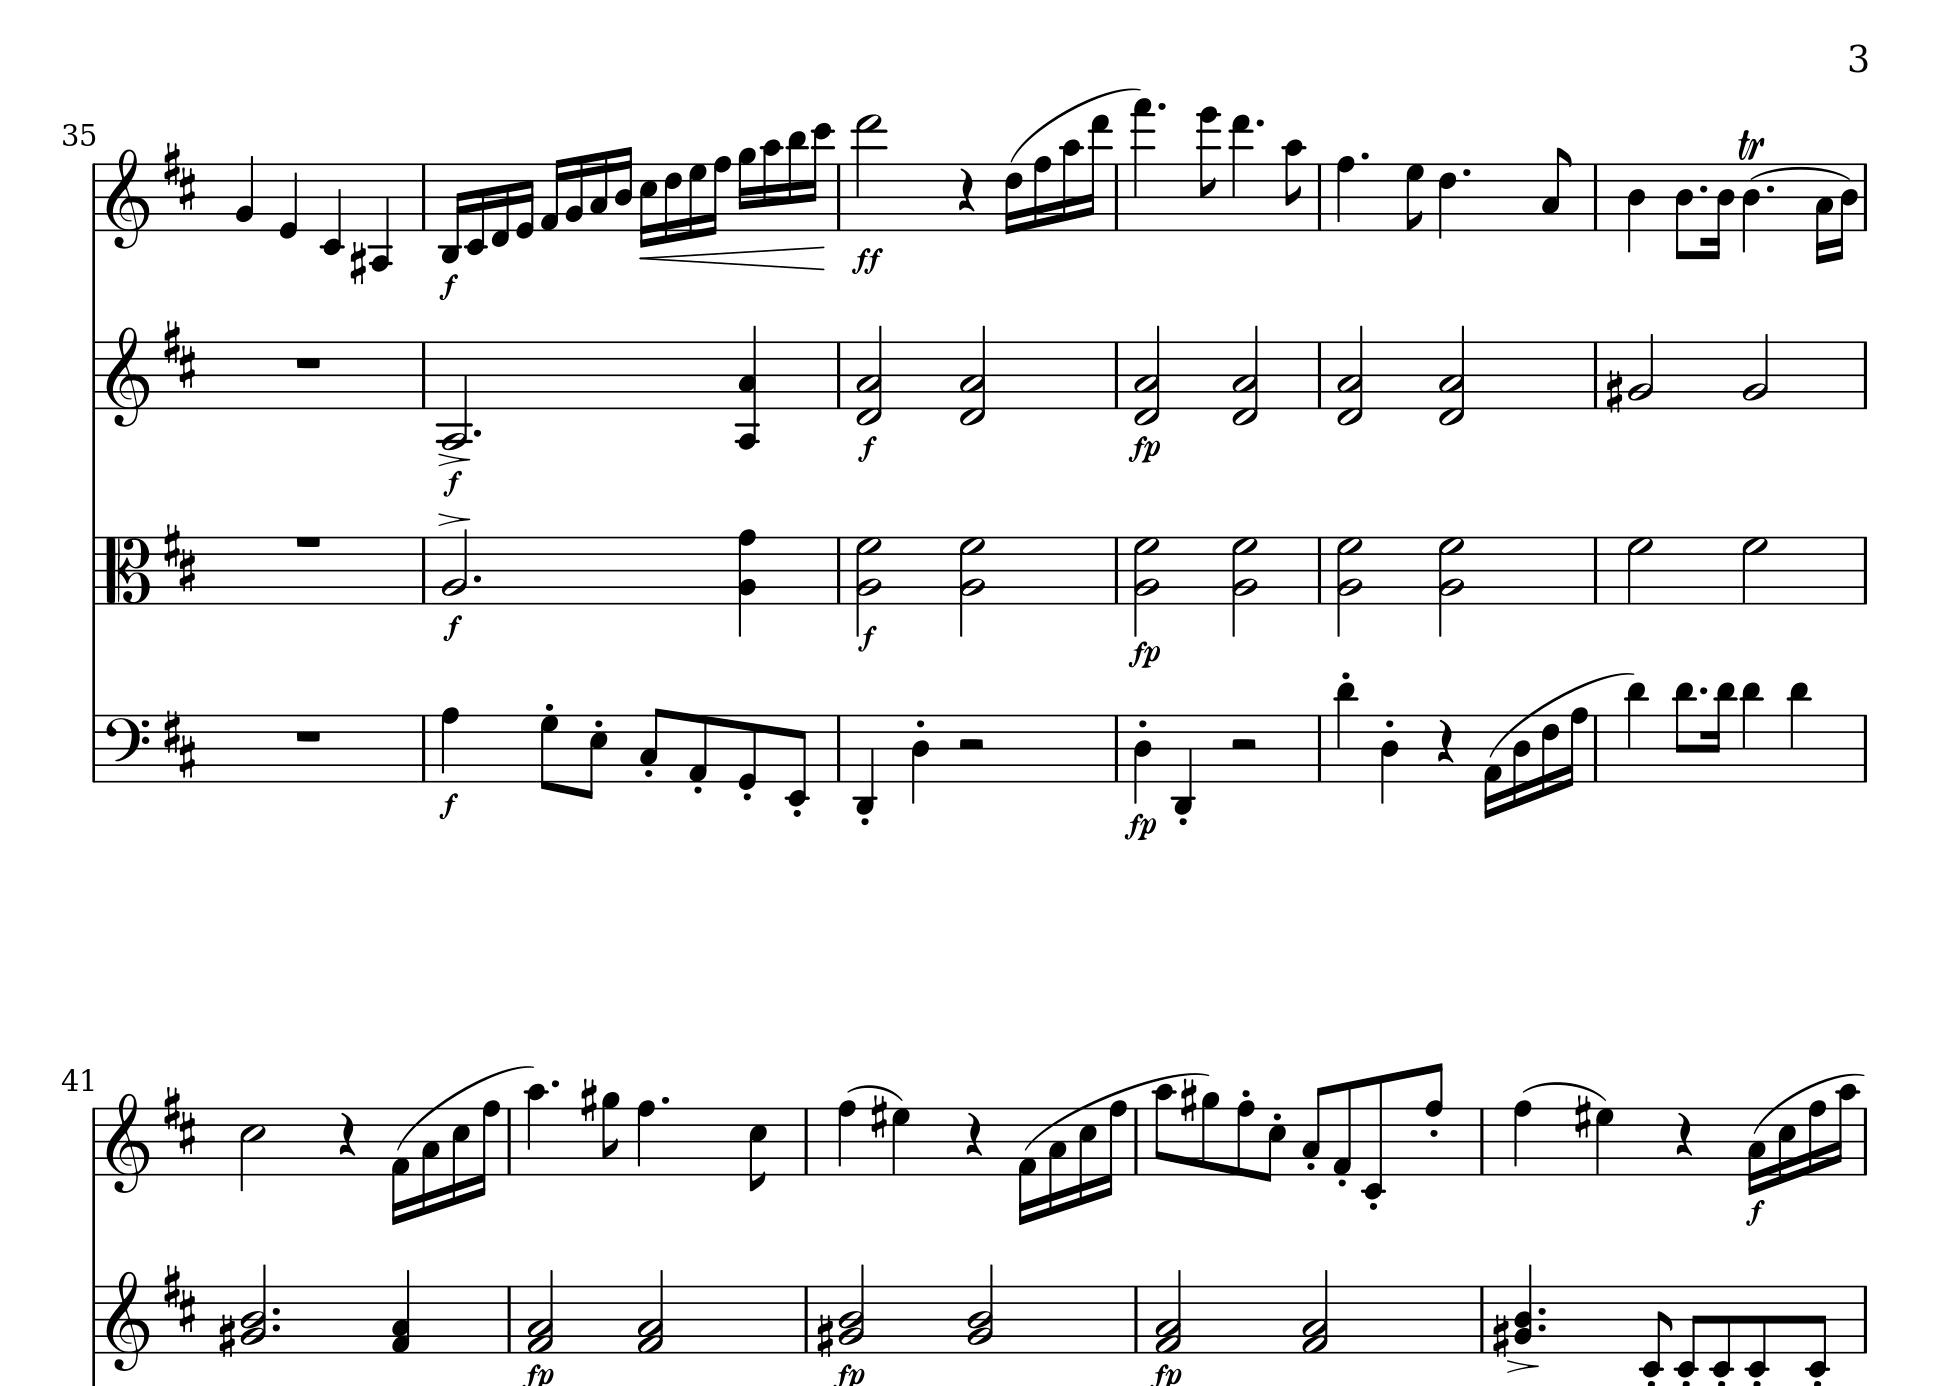1: (79, 1066, 97, 1093)
16_-1: (489, 160, 511, 247)
16_-2: (463, 160, 486, 255)
16_-3: (438, 160, 465, 265)
16_0: (513, 160, 535, 240)
16_1: (1017, 1105, 1038, 1225), (390, 1108, 409, 1225), (1483, 712, 1503, 820), (538, 156, 565, 232)
16_10: (1831, 1081, 1863, 1176), (1059, 136, 1083, 232), (760, 138, 784, 232)
16_11: (1704, 679, 1737, 784), (784, 129, 807, 232)
16_12: (805, 121, 834, 232)
16_13: (1083, 112, 1110, 232)
16_2: (564, 153, 585, 232)
16_3: (418, 1105, 441, 1216), (1047, 1105, 1068, 1216), (588, 148, 610, 232), (1746, 1105, 1767, 1195), (1815, 160, 1833, 264)
16_4: (1702, 162, 1735, 261), (1834, 160, 1860, 261), (1510, 712, 1531, 808), (613, 145, 634, 232)
16_5: (450, 1105, 469, 1206), (1078, 1105, 1098, 1203), (637, 160, 658, 247), (1776, 1105, 1797, 1185)
16_6: (661, 160, 684, 243), (1540, 712, 1560, 796), (1003, 162, 1024, 235)
16_7: (687, 160, 706, 241)
16_8: (472, 1098, 501, 1198), (1101, 1098, 1128, 1198), (1563, 705, 1590, 789), (706, 154, 732, 235), (1806, 1096, 1827, 1177), (1032, 154, 1053, 232)
16_9: (736, 145, 757, 232)
2_-1_3: (958, 325, 988, 426), (1437, 327, 1467, 427), (1233, 325, 1261, 427), (856, 325, 885, 426), (1134, 327, 1162, 427), (1338, 327, 1366, 427)
2_-4: (436, 339, 471, 450)
2_13: (852, 111, 886, 234)
2_1_3: (526, 1270, 556, 1357), (1155, 1269, 1185, 1354), (637, 1270, 666, 1359), (1302, 1270, 1329, 1354)
2_2: (1741, 331, 1771, 409), (439, 526, 469, 604), (1627, 331, 1656, 409)
2_2_4: (838, 1264, 868, 1356), (240, 1263, 268, 1357), (967, 1263, 994, 1356)
2_2_7: (1230, 534, 1260, 636), (955, 534, 985, 636), (1437, 535, 1465, 637), (1335, 534, 1363, 636), (1132, 535, 1161, 637), (855, 534, 883, 636)
2_5: (238, 1105, 265, 1191)
2_7: (1740, 535, 1768, 606), (1626, 535, 1653, 606)
3: (1848, 40, 1869, 73), (60, 120, 78, 147)
4: (60, 1065, 79, 1093)
4_-2: (318, 160, 345, 256)
4_-3: (1171, 712, 1197, 816), (853, 712, 876, 817)
4_-4: (366, 159, 394, 271)
4_-4_3: (733, 324, 762, 450)
4_0: (277, 160, 300, 240)
4_10: (523, 1081, 547, 1177)
4_11: (1623, 679, 1650, 784), (1333, 679, 1359, 784), (1786, 679, 1812, 784), (1740, 679, 1764, 784)
4_13: (1228, 114, 1254, 234)
4_15: (1131, 97, 1156, 232)
4_1_3: (391, 1270, 412, 1356)
4_2: (232, 153, 256, 232)
4_2_4: (1513, 1263, 1534, 1354)
4_2_8: (736, 528, 757, 637)
4_4: (909, 712, 931, 805), (1132, 712, 1155, 805), (1740, 160, 1761, 256), (1626, 160, 1647, 255), (1380, 714, 1401, 805)
4_6: (1437, 160, 1458, 240)
4_7: (889, 1105, 910, 1177), (1594, 1105, 1615, 1177)
4_8: (438, 703, 462, 784), (1335, 153, 1356, 232), (634, 1098, 655, 1177), (835, 1098, 856, 1177), (1512, 1098, 1533, 1177)
5: (78, 118, 97, 148)
8_-2: (1638, 1282, 1674, 1378), (1360, 1074, 1386, 1201), (1674, 1282, 1704, 1377), (783, 712, 811, 807), (1803, 1282, 1830, 1378), (1744, 1284, 1770, 1378), (1708, 1284, 1734, 1377)
8_0: (733, 712, 759, 793)
8_1: (1332, 1080, 1353, 1179), (685, 712, 709, 786)
8_10: (1281, 136, 1308, 232), (1152, 1081, 1176, 1177)
8_11: (1672, 679, 1698, 784)
8_14: (1197, 106, 1221, 232)
8_3: (1540, 145, 1572, 232), (1300, 1084, 1329, 1176), (637, 706, 667, 784)
8_4: (1674, 160, 1695, 262)
8_5: (580, 714, 609, 799), (1263, 1107, 1288, 1183), (747, 1105, 768, 1192)
8_7: (538, 712, 559, 793), (1404, 160, 1425, 232)
8_8: (1422, 1060, 1446, 1177), (1234, 1098, 1257, 1179)
8_9: (598, 1090, 621, 1177), (1200, 1089, 1221, 1177)
Accent_above: (435, 510, 471, 526), (1504, 1357, 1540, 1372), (435, 451, 469, 466)
Cclef: (103, 535, 151, 604)
D_S: (160, 1260, 196, 1333), (160, 520, 198, 591), (160, 706, 198, 777), (162, 139, 198, 211), (160, 1083, 196, 1155), (162, 316, 196, 388)
Fclef: (103, 712, 150, 784)
Gclef: (103, 1090, 148, 1194), (105, 145, 148, 250), (105, 1267, 148, 1372), (105, 324, 148, 427)
Rests1: (292, 727, 325, 745), (292, 352, 324, 370), (292, 532, 324, 550)
Rests2: (1227, 733, 1261, 754), (954, 735, 988, 754)
Rests4: (1434, 717, 1456, 765), (336, 1110, 358, 1158), (955, 166, 976, 214), (1674, 1110, 1695, 1158), (964, 1110, 984, 1158)
Sharp: (1572, 1092, 1593, 1141), (577, 1075, 598, 1123), (1491, 1309, 1512, 1357), (814, 1311, 835, 1357), (868, 1092, 888, 1141), (1603, 367, 1623, 415), (1179, 1075, 1198, 1123), (217, 1311, 237, 1359), (348, 240, 367, 286)
Single_barline: (1854, 340, 1875, 408), (1587, 535, 1606, 603), (1855, 535, 1875, 603), (1108, 535, 1126, 603), (1587, 714, 1605, 781), (1857, 714, 1875, 781), (1857, 1285, 1875, 1353), (1587, 163, 1605, 229), (1473, 1285, 1491, 1351), (1857, 163, 1873, 232), (1108, 163, 1125, 231), (415, 340, 432, 408), (831, 340, 847, 408), (1108, 340, 1125, 408), (1588, 340, 1605, 408), (85, 535, 102, 603), (85, 1107, 102, 1174), (501, 1107, 517, 1174), (1128, 1107, 1144, 1174), (1474, 1107, 1491, 1174), (831, 163, 847, 229), (1312, 535, 1329, 601), (415, 715, 432, 781), (798, 1107, 814, 1173), (798, 1285, 814, 1351), (1128, 1285, 1144, 1351), (501, 1285, 517, 1351), (831, 537, 847, 601), (1108, 715, 1125, 780), (87, 340, 102, 409), (1857, 1107, 1872, 1176), (85, 163, 100, 231), (1312, 340, 1327, 408), (87, 1285, 102, 1353), (1314, 163, 1329, 229), (415, 163, 430, 229), (85, 715, 100, 781), (415, 537, 430, 601), (1312, 715, 1327, 780), (831, 715, 844, 781)
Slur: (1522, 1080, 1606, 1099), (1750, 166, 1854, 180), (847, 1081, 904, 1099)
Trill: (1735, 126, 1767, 160)
dot: (1459, 163, 1473, 178), (1155, 99, 1168, 112), (1536, 1303, 1549, 1317), (1356, 150, 1371, 162), (1696, 181, 1711, 193), (471, 426, 483, 439), (1698, 682, 1710, 696), (549, 1077, 561, 1090), (270, 1303, 282, 1317), (1536, 1321, 1549, 1333), (1254, 115, 1266, 127), (1764, 183, 1776, 195), (471, 571, 483, 583), (658, 1093, 670, 1105), (270, 1321, 282, 1333)
f: (438, 612, 465, 642), (855, 433, 879, 463), (439, 469, 463, 498), (1743, 1197, 1767, 1225), (436, 271, 459, 301), (436, 790, 459, 820), (856, 624, 879, 652)
ff: (849, 244, 885, 277)
fp: (1128, 433, 1161, 465)
pp: (1122, 811, 1158, 844), (1128, 640, 1161, 669)
